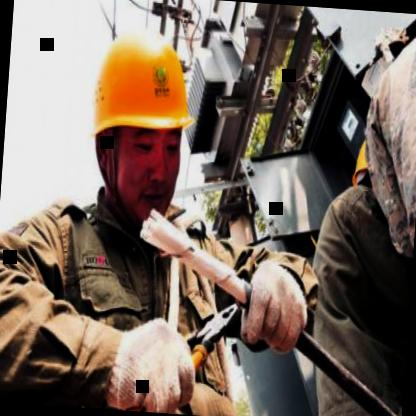helmet: (67, 3, 210, 235)
